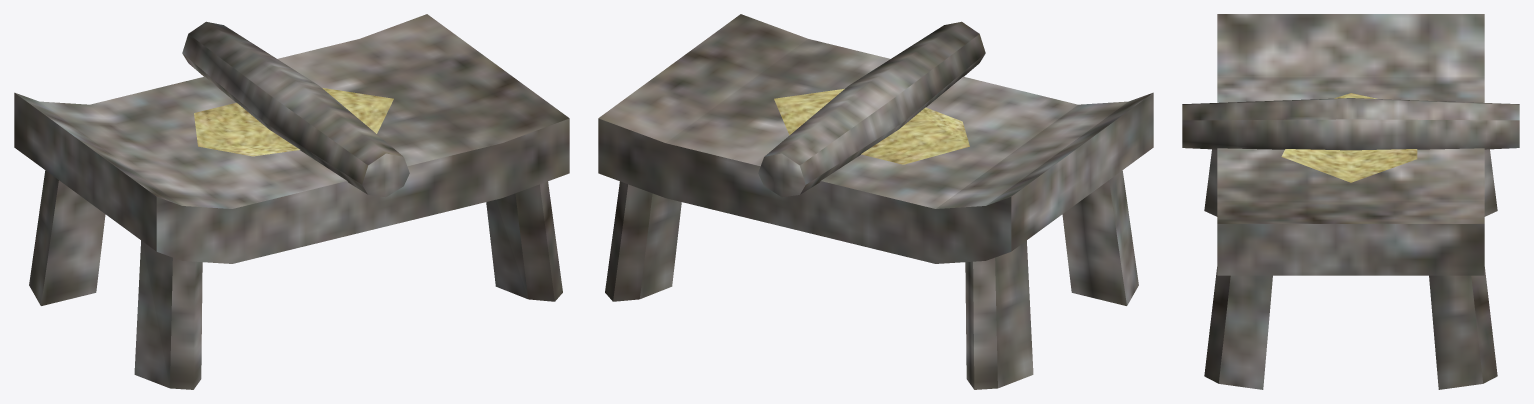
Rendered from maya_stone_grind.dae.
3 views of the same model, side by side, from view 1: azimuth 30°, elevation 25°; view 2: azimuth 150°, elevation 25°; view 3: azimuth 270°, elevation 25° (orthographic). The views are drawn at different scales.
Visible parts, largest first — view 1: maya_stone_grind; view 2: maya_stone_grind; view 3: maya_stone_grind.
Boxes of the visible parts, <box> form: maya_stone_grind: <box>14,14,569,389</box>; maya_stone_grind: <box>598,14,1153,389</box>; maya_stone_grind: <box>1182,14,1519,389</box>.
Size of the model in its own units: 1.61 by 1.2 by 0.7645.
